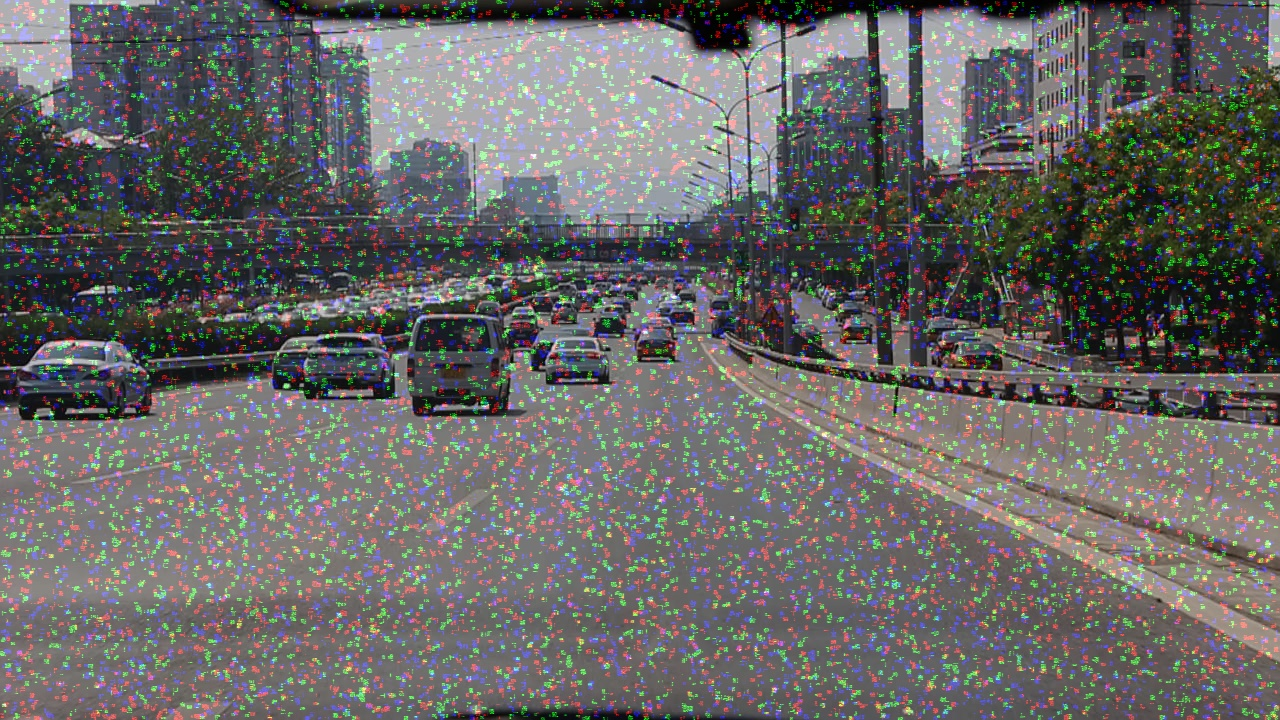Prohibitory Signs: (814, 225, 832, 242)
Warning Signs: (758, 302, 785, 327)
